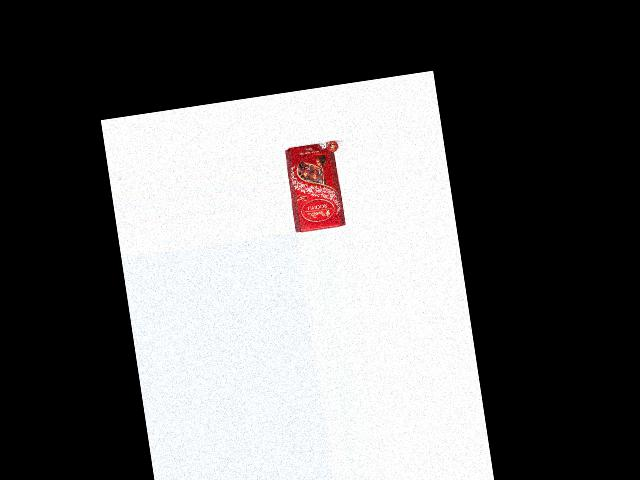chocolate: (284, 140, 351, 232)
